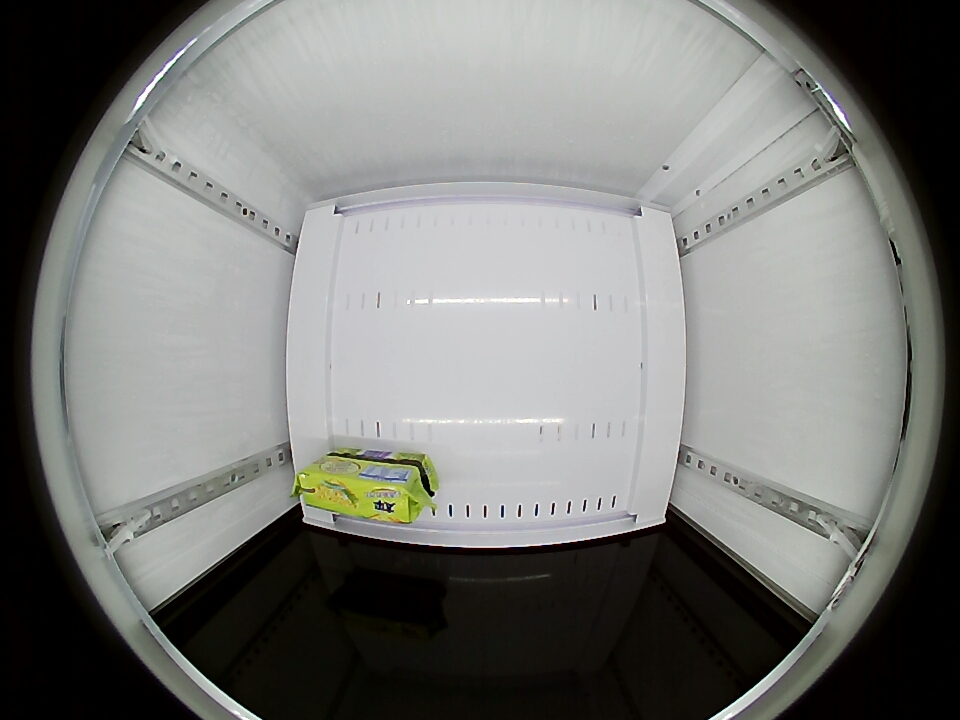taipingshuda: (297, 456, 429, 524)
